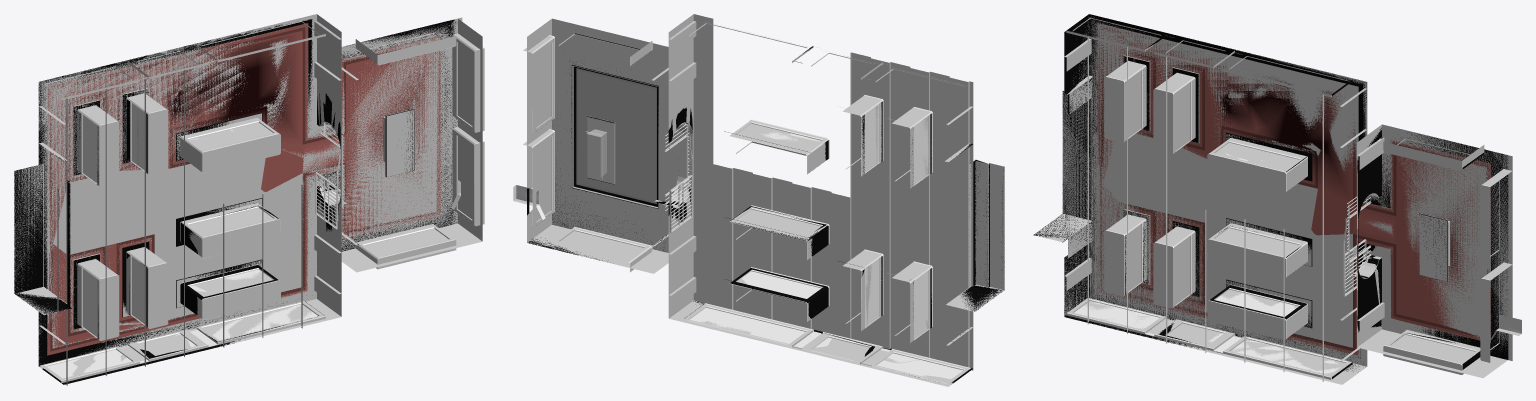
The model's file is red_int_vault.glb.
The picture shows the model from 3 angles, left to right: view 1: azimuth 30°, elevation 25°; view 2: azimuth 150°, elevation 25°; view 3: azimuth 330°, elevation 25°; orthographic projection.
Parts seen in each view (by area): view 1: c_mesh_vault, dm_carpet, g_carpet, g_vault, dm_marble, dm_metal, g_safetybox; view 2: c_mesh_vault, dm_marble, g_vault, g_safetybox, dm_metal; view 3: c_mesh_vault, dm_carpet, g_carpet, g_vault, dm_metal, dm_marble, g_safetybox.
Part boxes in pixels (x1,y1,x2,y2): c_mesh_vault: (14, 17, 484, 385); dm_carpet: (47, 29, 440, 354); g_carpet: (47, 23, 440, 355); g_vault: (14, 19, 457, 384); dm_marble: (14, 14, 477, 355); dm_metal: (61, 34, 484, 374); g_safetybox: (44, 21, 484, 380); c_mesh_vault: (514, 14, 1004, 386); dm_marble: (526, 14, 1003, 379); g_vault: (527, 22, 1004, 383); g_safetybox: (513, 22, 970, 383); dm_metal: (516, 44, 929, 365); c_mesh_vault: (1034, 14, 1521, 384); dm_carpet: (1097, 23, 1490, 355); g_carpet: (1097, 23, 1490, 355); g_vault: (1033, 14, 1508, 378); dm_metal: (1067, 32, 1521, 379); dm_marble: (1035, 16, 1508, 373); g_safetybox: (1066, 17, 1521, 379).
Bounding box in the file's own units: 23.63 × 14 × 2.74.
